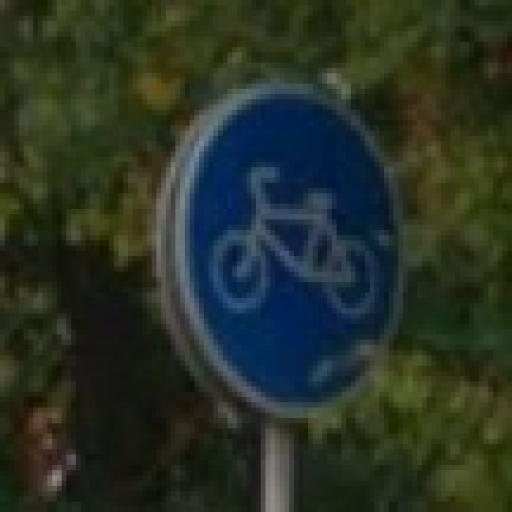traffic_sign: (172, 80, 409, 425)
